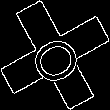O_NE: (22, 24, 88, 86)
